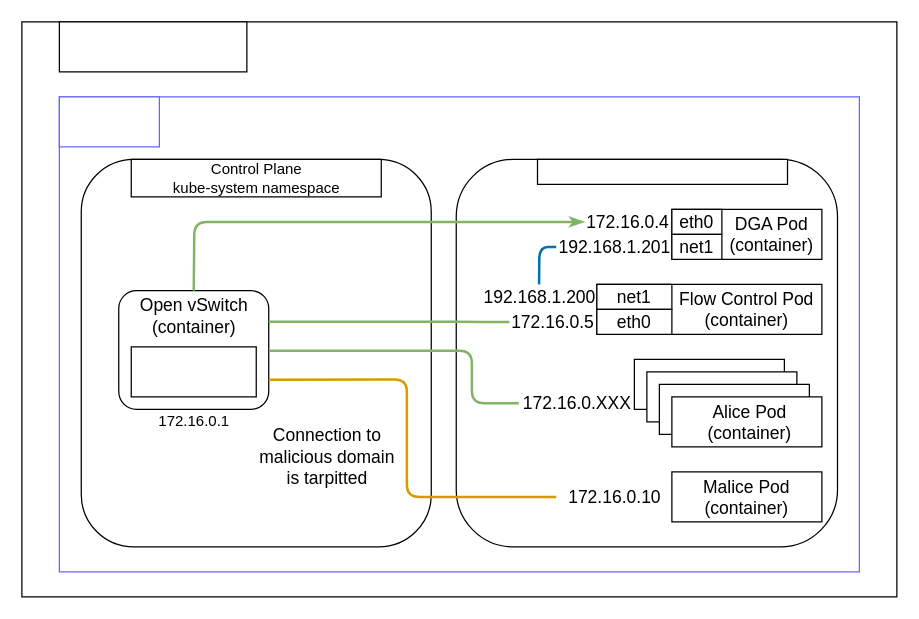
The diagram is 919 pixels wide and 619 high, and some of its shapes have lost their labels. Each missing label, with the centre of its shape:
"Alarm listener service" goes at [193,371].
"default namespace" goes at [662,171].
"Minikube Cluster (host)" goes at [152,46].
"Node (container)" goes at [108,121].
